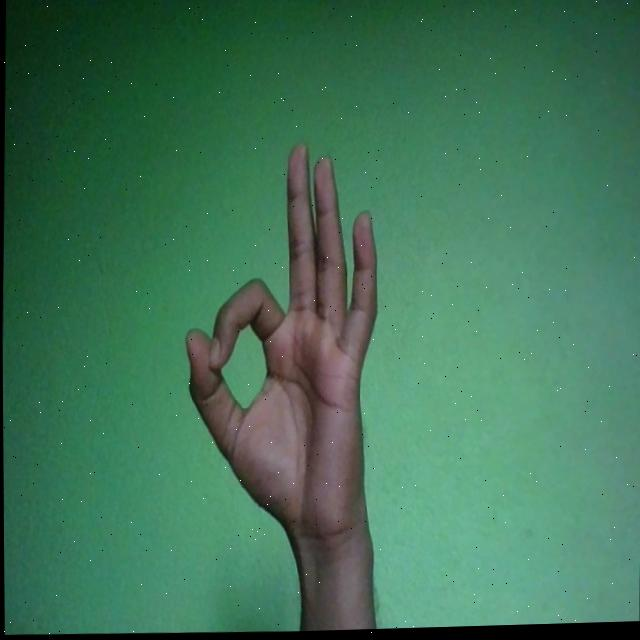Ok: (181, 140, 380, 554)
